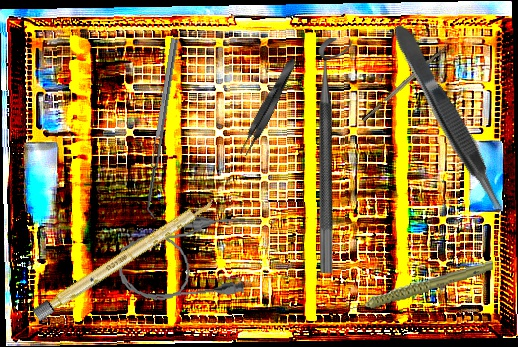Cannula: (112, 211, 254, 308)
Chopper: (357, 38, 453, 122)
Fixation Ring: (318, 38, 353, 273)
Handpiece: (342, 260, 496, 311)
Scalpel Handle: (32, 194, 217, 322)
Spatula Surgical: (142, 38, 186, 219)
Tissue Forceps: (389, 19, 511, 218), (235, 55, 302, 159)
